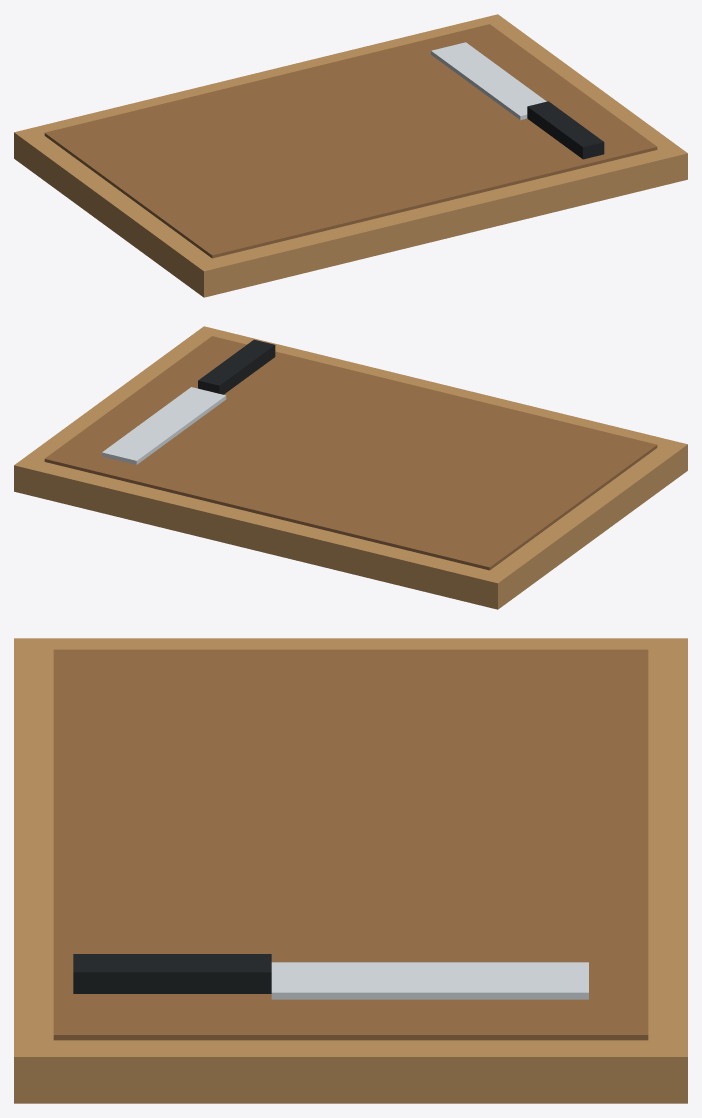
The model's file is prep_board.glb.
The picture shows the model from 3 angles, top to bottom: view 1: azimuth 30°, elevation 25°; view 2: azimuth 150°, elevation 25°; view 3: azimuth 270°, elevation 25°; orthographic projection. The views are drawn at different scales.
Visible parts, largest first — view 1: Prep_Board; view 2: Prep_Board; view 3: Prep_Board.
Part boxes in pixels (x1,y1,x2,y2): Prep_Board: (14, 14, 687, 297); Prep_Board: (14, 326, 687, 609); Prep_Board: (14, 638, 687, 1103).
Bounding box in the file's own units: 0.5 × 0.041 × 0.34.
Materials: 1 (1 with a texture image).
